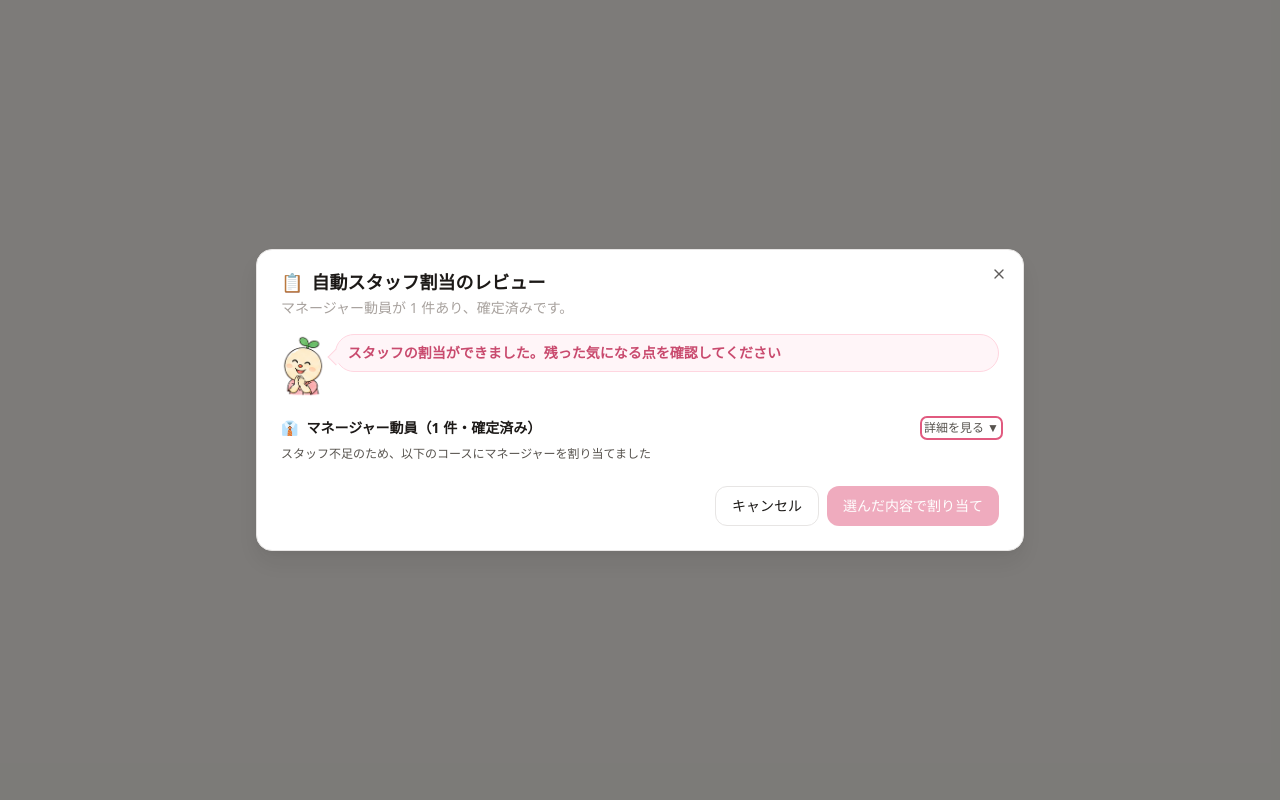
Test: AssignWarningDialog — 4段ソルバ Stage 2 + v2.0 新Stage 3 notices セクション › 「詳細を見る ▼」を押すとマネージャー動員の行が表示される
Click the button "詳細を見る ▼". click: (962, 428)
box: x1=924 y1=420 x2=999 y2=436
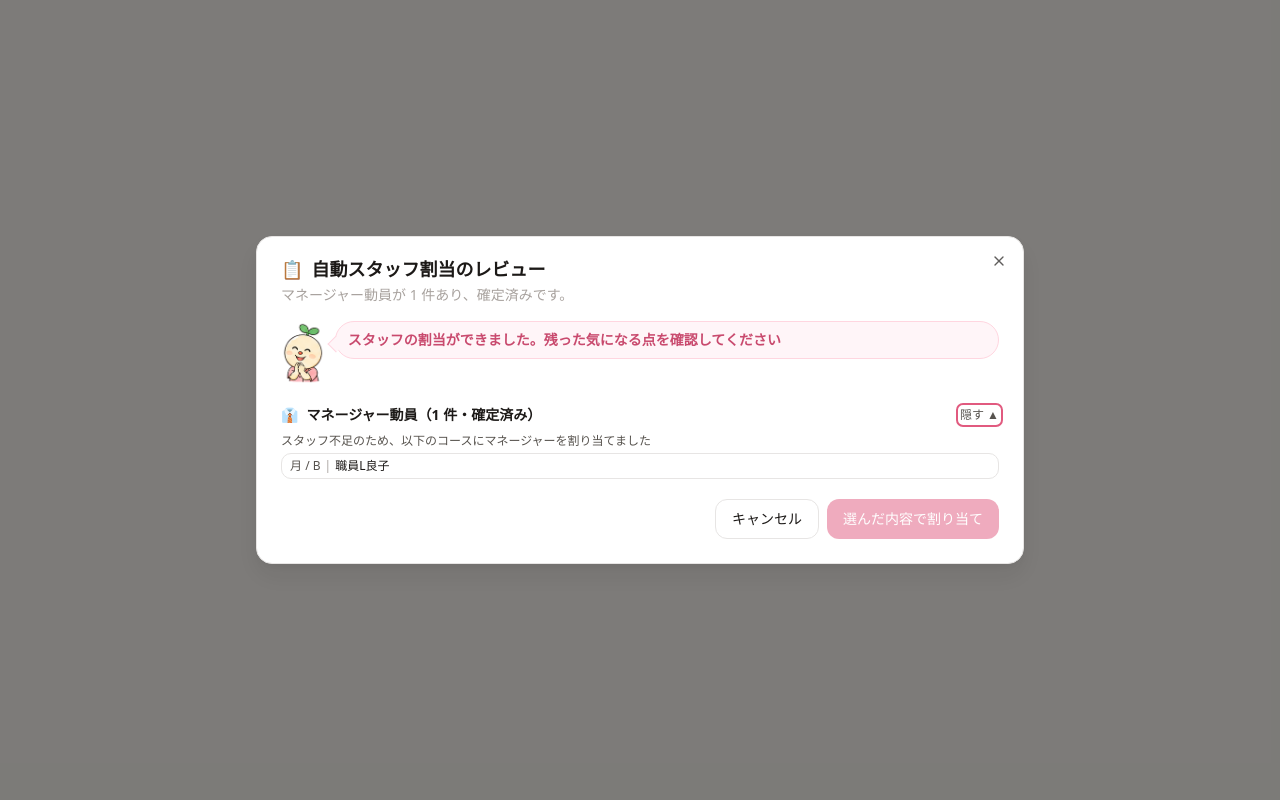
expect the list item with test id "assign-manager-mobilized-row" is shown: met, box x1=281 y1=453 x2=999 y2=479
expect the list item with test id "assign-manager-mobilized-row" shows "月": met, box x1=290 y1=457 x2=302 y2=474
expect the list item with test id "assign-manager-mobilized-row" shows "B": met, box x1=313 y1=457 x2=320 y2=474
